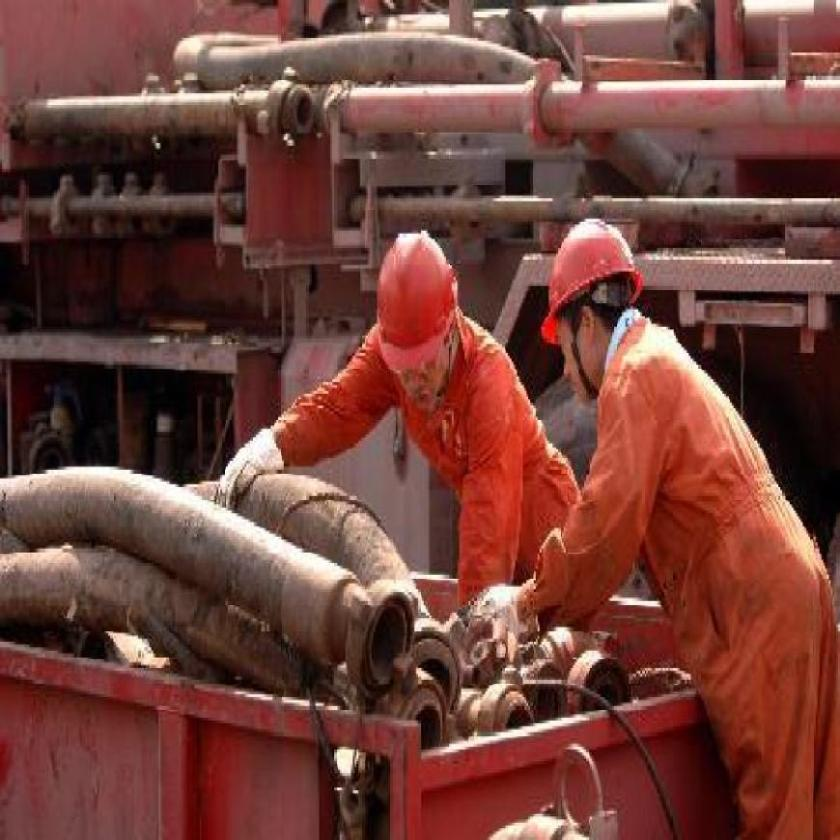Con_casco: (530, 196, 652, 401)
